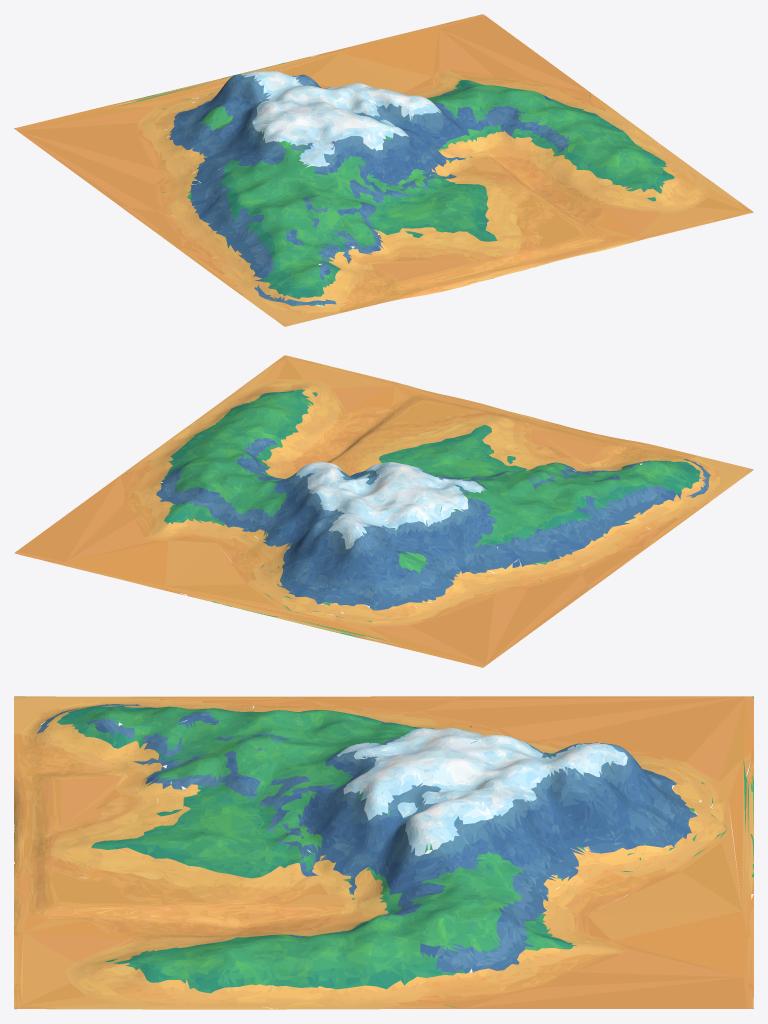
The model's file is MainMenu Island_1.fbx.
The picture shows the model from 3 angles, top to bottom: view 1: azimuth 30°, elevation 25°; view 2: azimuth 150°, elevation 25°; view 3: azimuth 270°, elevation 25°; orthographic projection. The views are drawn at different scales.
Parts seen in each view (by area): view 1: Sand; view 2: Sand; view 3: Sand.
Boxes of the visible parts, box(x1,y1,x2,y2) form: Sand: box(14, 14, 753, 326); Sand: box(14, 355, 753, 667); Sand: box(14, 696, 753, 1009).
Bounding box in the file's own units: 198 × 24.49 × 198.
